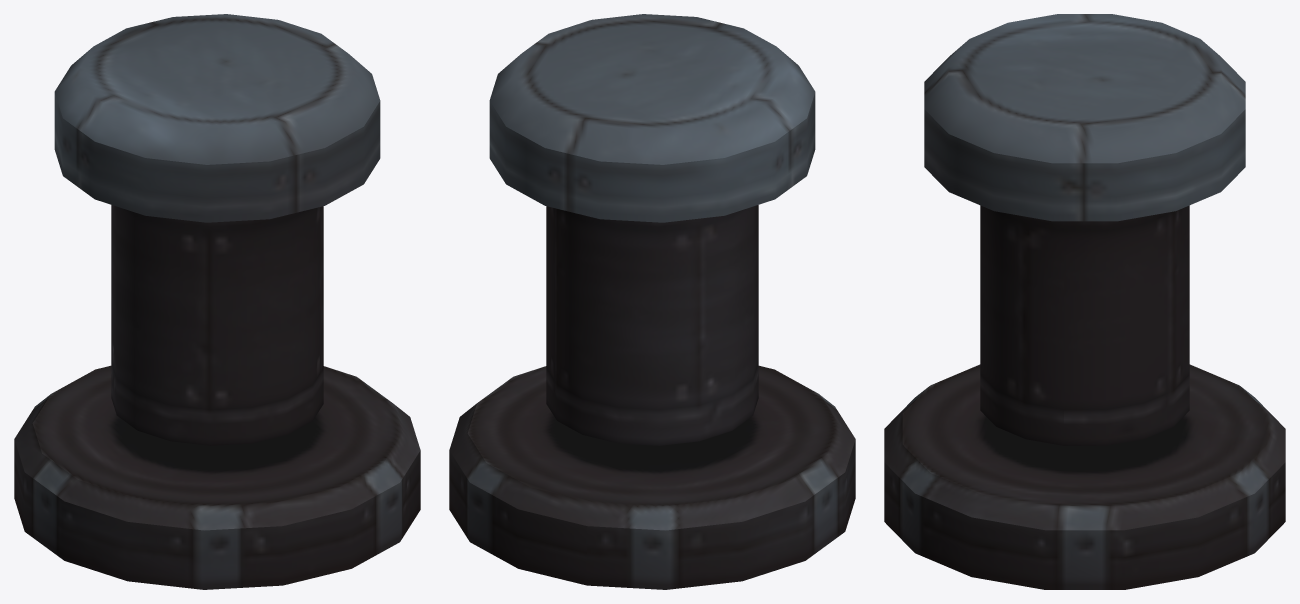
Rendered from Tow_Hammer1.fbx.
3 renders of one model, left to right at view 1: azimuth 30°, elevation 25°; view 2: azimuth 150°, elevation 25°; view 3: azimuth 270°, elevation 25°, orthographic.
Parts seen in each view (by area): view 1: Turret, Base; view 2: Turret, Base; view 3: Turret, Base.
Part boxes in pixels (x1=…): Turret: x1=54, y1=14, x2=380, y2=445; Base: x1=14, y1=365, x2=420, y2=589; Turret: x1=489, y1=14, x2=815, y2=445; Base: x1=449, y1=365, x2=855, y2=589; Turret: x1=924, y1=14, x2=1245, y2=445; Base: x1=884, y1=364, x2=1285, y2=589.
Bounding box in the file's own units: 161 × 192 × 161.
Materials: 1 (1 with a texture image).
